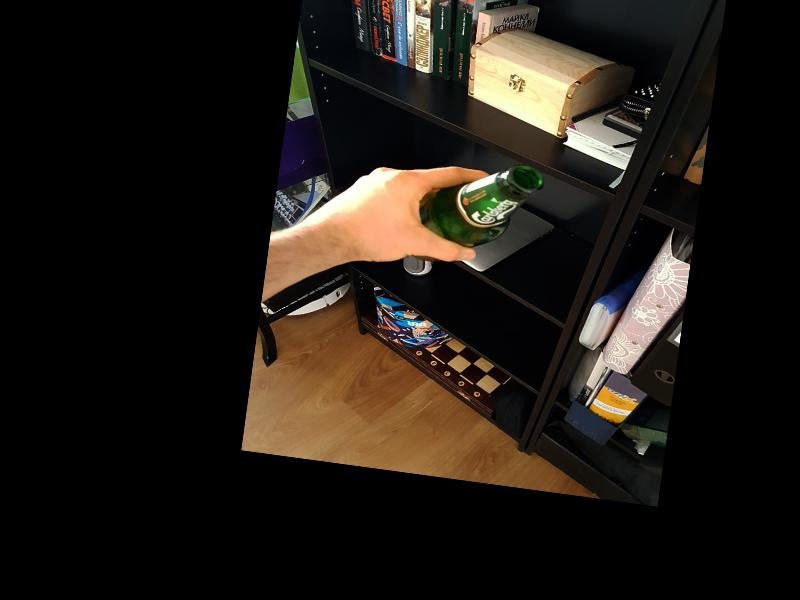Beer: (404, 151, 546, 275)
